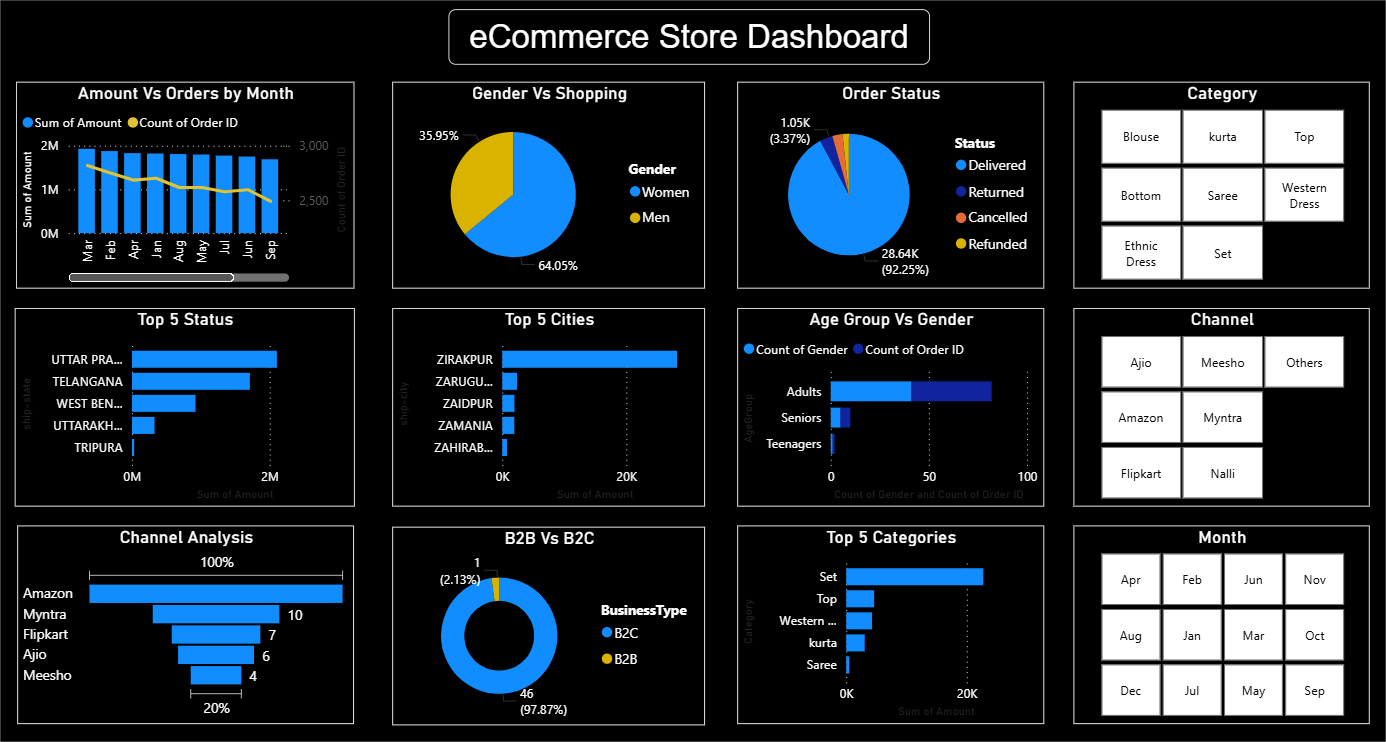

Layout of this report page (visuals, bound fields, positions):
{"tool":"powerbi","page":{"name":"Page 1","canvas":[1349,731],"ordinal":0},"visuals":[{"type":"textbox","box":[437.5,11,465.7,53.9],"z":0},{"type":"lineClusteredColumnComboChart","title":"Amount Vs Orders by Month","fields":{"Category":["MyStore.Month"],"Y":["Sum(MyStore.Amount)"],"Y2":["CountNonNull(MyStore.Order ID)"]},"box":[19.6,80.9,327.2,199.8],"z":1000},{"type":"pieChart","title":"Gender Vs Shopping","fields":{"Category":["MyStore.Gender"],"Y":["Sum(MyStore.Amount)"]},"box":[383.6,80.9,302.7,199.8],"z":2000},{"type":"pieChart","title":"Order Status","fields":{"Y":["CountNonNull(MyStore.Order ID)"],"Category":["MyStore.Status"]},"box":[716.9,80.9,296.6,199.8],"z":3000},{"type":"barChart","title":"Top 5 Status","fields":{"Y":["Sum(MyStore.Amount)"],"Category":["MyStore.ship-state"]},"box":[18.4,300.2,328.4,192.4],"z":4000},{"type":"barChart","title":"Top 5 Cities","fields":{"Y":["Sum(MyStore.Amount)"],"Category":["MyStore.ship-city"]},"box":[383.6,300.2,302.7,192.4],"z":5000},{"type":"barChart","title":"Age Group Vs Gender","fields":{"Y":["CountNonNull(MyStore.Gender)","CountNonNull(MyStore.Order ID)"],"Category":["MyStore.AgeGroup"]},"box":[716.9,300.2,296.6,192.4],"z":6000},{"type":"funnel","title":"Channel Analysis","fields":{"Category":["MyStore.Channel "],"Y":["CountNonNull(MyStore.Order ID)"]},"box":[20.8,509.8,326,192.4],"z":7000},{"type":"clusteredBarChart","title":"Top 5 Categories","fields":{"Category":["MyStore.Category"],"Y":["Sum(MyStore.Amount)"]},"box":[716.9,509.8,296.6,192.4],"z":8000},{"type":"donutChart","title":"B2B Vs B2C","fields":{"Category":["MyStore.BusinessType"],"Y":["CountNonNull(MyStore.Order ID)"]},"box":[383.6,511,302.7,192.4],"z":9000},{"type":"slicer","title":"Category","fields":{"Values":["MyStore.Category"]},"box":[1041.7,80.9,286.8,199.8],"z":10000},{"type":"slicer","title":"Channel","fields":{"Values":["MyStore.Channel "]},"box":[1041.7,300.2,286.8,192.4],"z":11000},{"type":"slicer","title":"Month","fields":{"Values":["MyStore.Month"]},"box":[1041.7,509.8,286.8,192.4],"z":12000}]}

Visuals, with their boxes in screenshot pixels (x1, y1, x2, y2), scaled from the page's 1349x731 canvas onto the 1386x742 screenshot:
textbox: select_region(449, 11, 928, 66)
"Amount Vs Orders by Month" lineClusteredColumnComboChart: select_region(20, 82, 356, 285)
"Gender Vs Shopping" pieChart: select_region(394, 82, 705, 285)
"Order Status" pieChart: select_region(737, 82, 1041, 285)
"Top 5 Status" barChart: select_region(19, 305, 356, 500)
"Top 5 Cities" barChart: select_region(394, 305, 705, 500)
"Age Group Vs Gender" barChart: select_region(737, 305, 1041, 500)
"Channel Analysis" funnel: select_region(21, 517, 356, 713)
"Top 5 Categories" clusteredBarChart: select_region(737, 517, 1041, 713)
"B2B Vs B2C" donutChart: select_region(394, 519, 705, 714)
"Category" slicer: select_region(1070, 82, 1365, 285)
"Channel" slicer: select_region(1070, 305, 1365, 500)
"Month" slicer: select_region(1070, 517, 1365, 713)
